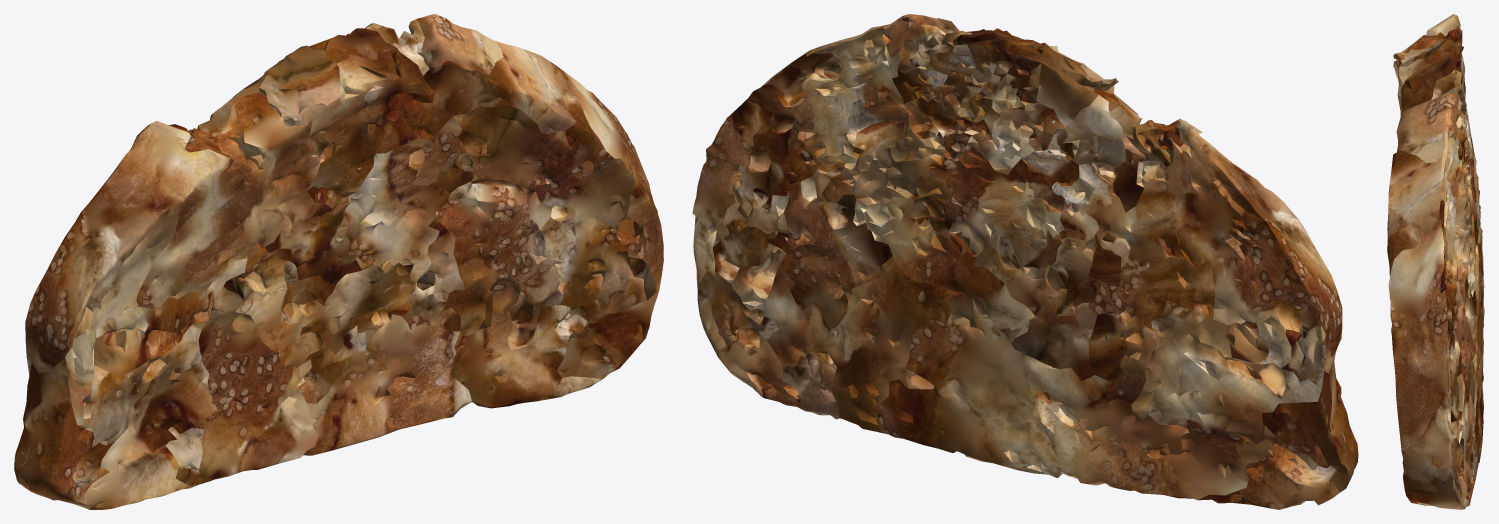
3 views of the same model, side by side, from view 1: azimuth 30°, elevation 25°; view 2: azimuth 150°, elevation 25°; view 3: azimuth 270°, elevation 25° (orthographic). The views are drawn at different scales.
Size of the model in its own units: 1 by 0.6089 by 0.1493.
